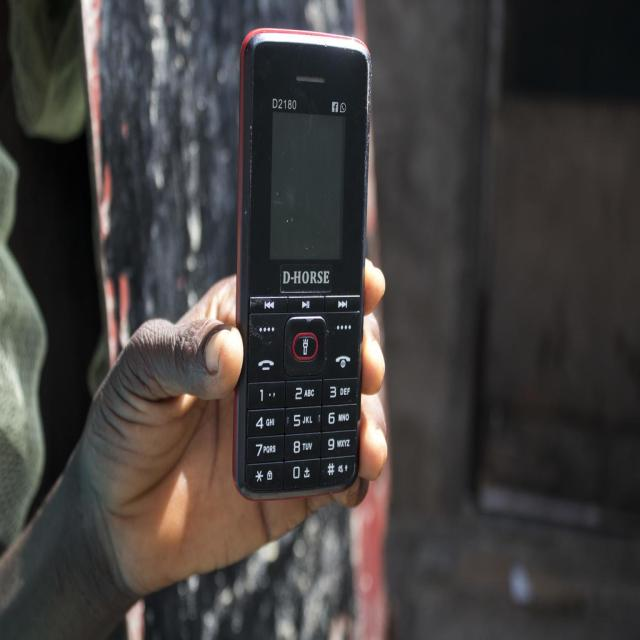Phone: (229, 27, 379, 506)
